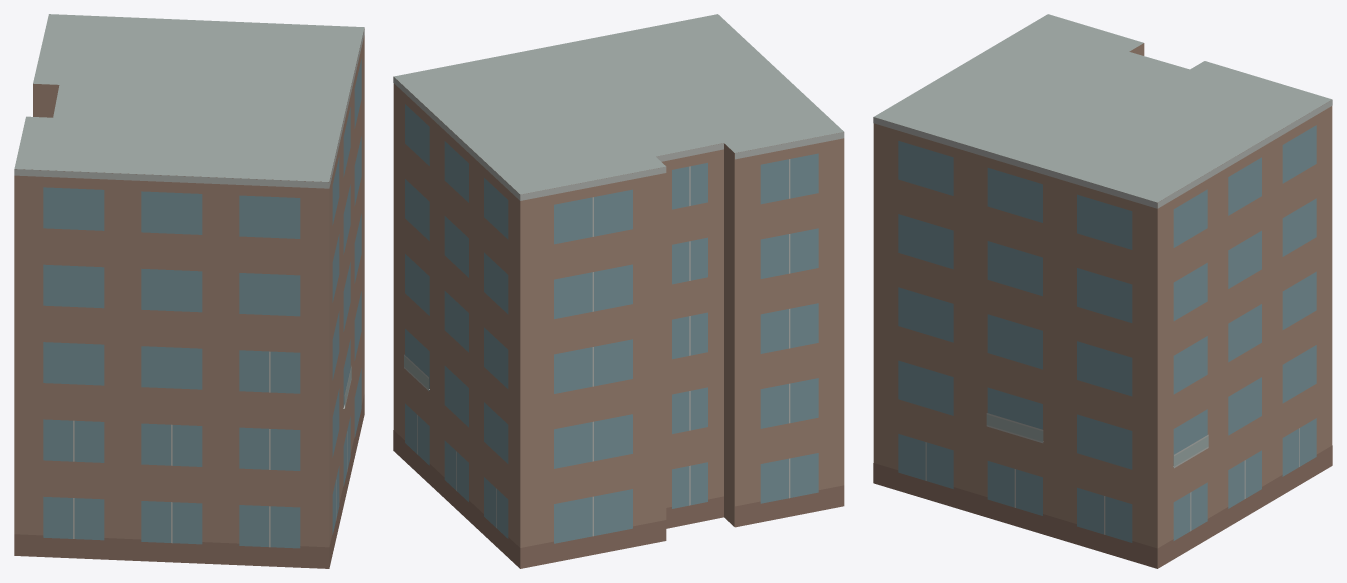
File: survey-upis-32860700.glb
3 renders of one model, left to right at view 1: azimuth 30°, elevation 25°; view 2: azimuth 150°, elevation 25°; view 3: azimuth 270°, elevation 25°, orthographic. The views are drawn at different scales.
Parts seen in each view (by area): view 1: survey-upis-32860700.tmp; view 2: survey-upis-32860700.tmp; view 3: survey-upis-32860700.tmp.
Boxes of the visible parts, bbox=[...] form: survey-upis-32860700.tmp: bbox=[14, 14, 364, 568]; survey-upis-32860700.tmp: bbox=[393, 14, 844, 568]; survey-upis-32860700.tmp: bbox=[873, 14, 1332, 568].
Size of the model in its own units: 15.8 by 14.3 by 16.25.
